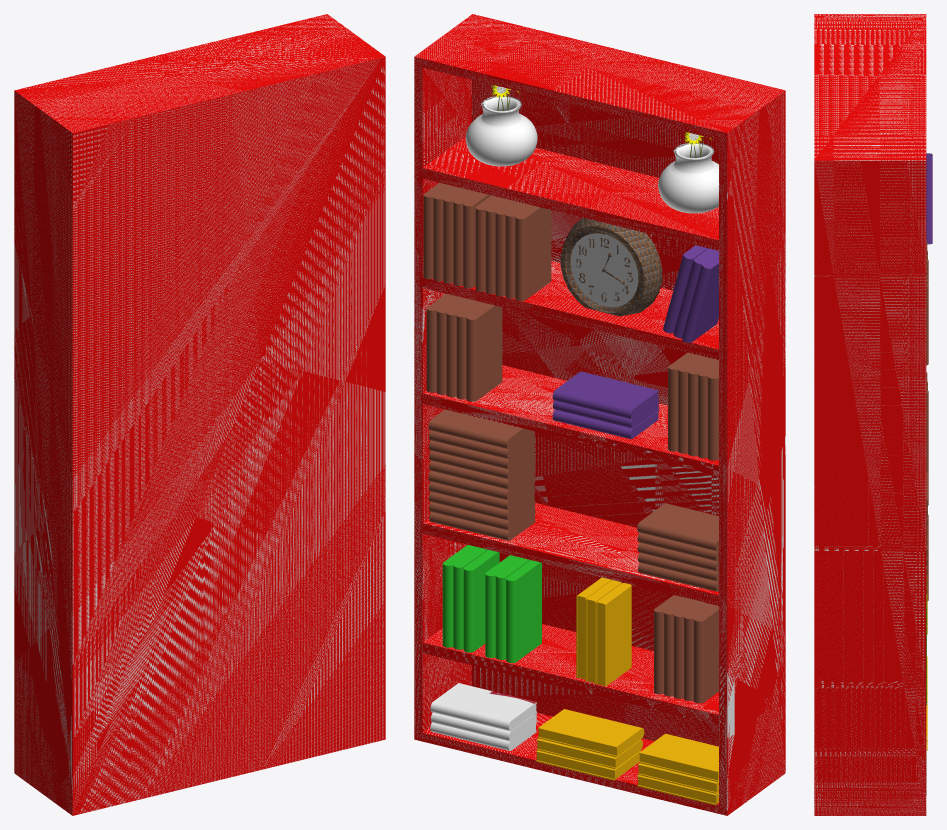
The picture shows the model from 3 angles, left to right: view 1: azimuth 30°, elevation 25°; view 2: azimuth 150°, elevation 25°; view 3: azimuth 270°, elevation 25°; orthographic projection. The views are drawn at different scales.
Visible parts, largest first — view 1: mesh1_mesh1-geometry; view 2: mesh1_mesh1-geometry, mesh135_mesh135-geometry, mesh134_mesh134-geometry, mesh94_mesh94-geometry, mesh102_mesh102-geometry, mesh30_mesh30-geometry, mesh82_mesh82-geometry, mesh116_mesh116-geometry, mesh20_mesh20-geometry, mesh124_mesh124-geometry, mesh66_mesh66-geometry, mesh110_mesh110-geometry (+55 smaller); view 3: mesh1_mesh1-geometry, mesh92_mesh92-geometry, mesh6_mesh6-geometry, mesh26_mesh26-geometry.
Part boxes in pixels (bbox=[...]): mesh1_mesh1-geometry: bbox=[14, 14, 385, 815]; mesh1_mesh1-geometry: bbox=[414, 14, 785, 815]; mesh135_mesh135-geometry: bbox=[560, 218, 662, 316]; mesh134_mesh134-geometry: bbox=[465, 96, 718, 213]; mesh94_mesh94-geometry: bbox=[595, 583, 631, 686]; mesh102_mesh102-geometry: bbox=[506, 560, 541, 662]; mesh30_mesh30-geometry: bbox=[466, 303, 502, 401]; mesh82_mesh82-geometry: bbox=[430, 683, 536, 731]; mesh116_mesh116-geometry: bbox=[538, 709, 644, 757]; mesh20_mesh20-geometry: bbox=[515, 205, 551, 300]; mesh124_mesh124-geometry: bbox=[552, 371, 658, 419]; mesh66_mesh66-geometry: bbox=[637, 503, 718, 551]; mesh110_mesh110-geometry: bbox=[639, 733, 718, 781]; mesh1_mesh1-geometry: bbox=[814, 14, 926, 815]; mesh92_mesh92-geometry: bbox=[926, 157, 932, 244]; mesh6_mesh6-geometry: bbox=[926, 283, 928, 365]; mesh26_mesh26-geometry: bbox=[926, 389, 928, 471].
Bounding box in the file's own units: 0.4281 × 0.8918 × 0.1463.
